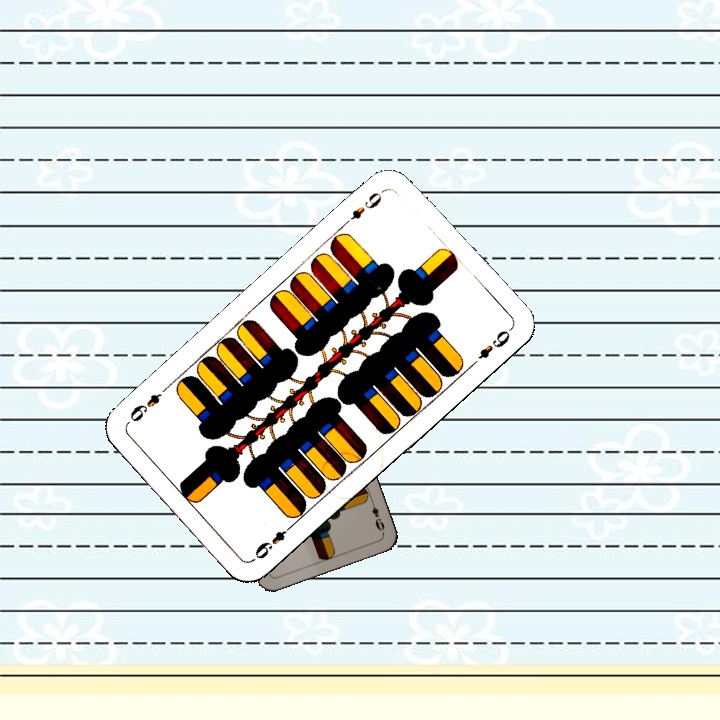E9: (338, 185, 387, 229), (250, 519, 297, 563), (366, 496, 387, 534)
